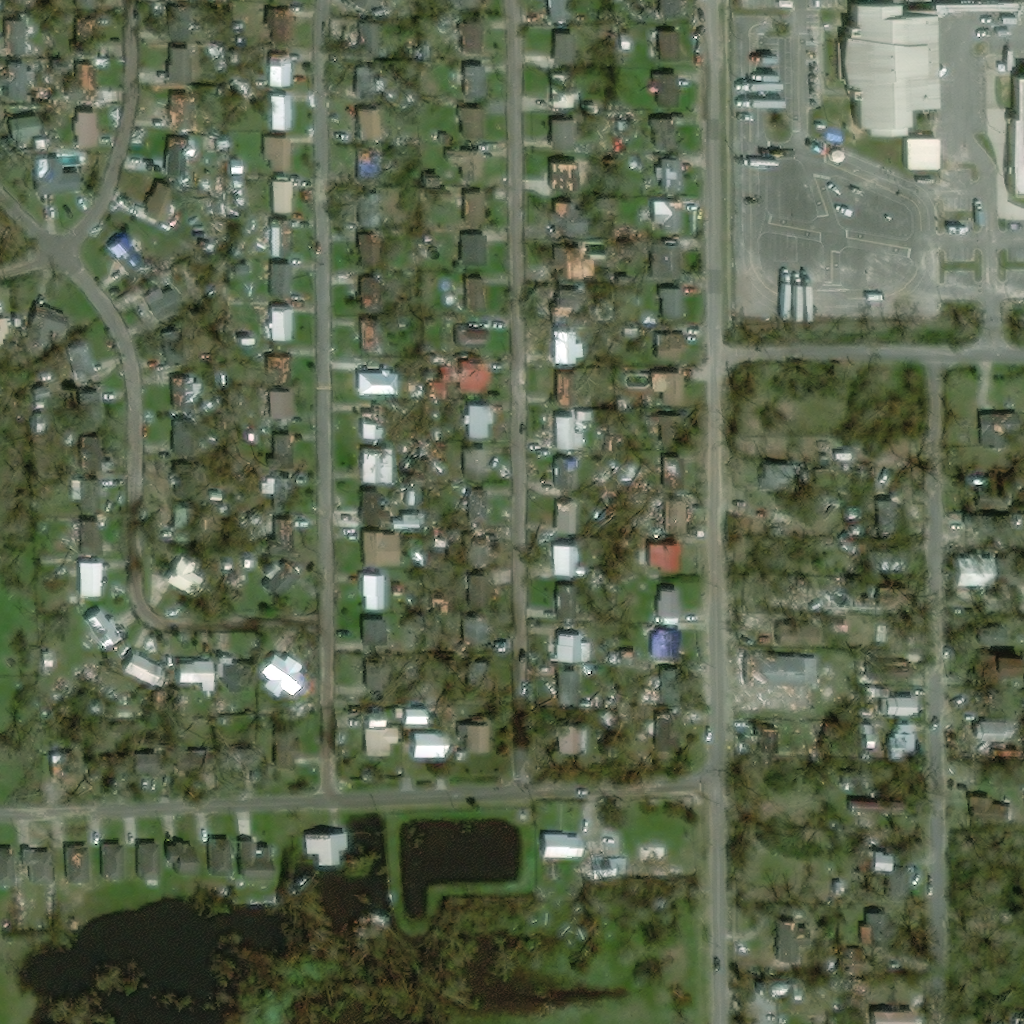destroyed: (811, 585, 840, 599), (620, 115, 640, 135), (843, 776, 865, 790), (206, 139, 218, 153), (621, 143, 628, 151)
major_damage: (737, 658, 817, 685), (305, 829, 351, 872), (439, 360, 491, 396), (163, 371, 195, 416), (980, 412, 1013, 453), (166, 139, 195, 179), (0, 65, 28, 105), (67, 64, 95, 101), (654, 201, 682, 237), (5, 20, 33, 56), (267, 9, 292, 45), (357, 406, 382, 440), (361, 152, 386, 184), (638, 845, 672, 868), (269, 53, 291, 87), (269, 356, 293, 387), (275, 522, 298, 554), (784, 627, 822, 646), (272, 222, 292, 256), (75, 22, 93, 59), (469, 535, 490, 564), (364, 236, 383, 267), (558, 502, 577, 532), (368, 278, 385, 310), (621, 651, 640, 665), (432, 383, 448, 399), (6, 0, 32, 9), (100, 45, 111, 54)
minor_damage: (260, 653, 308, 695), (84, 609, 133, 650), (29, 159, 83, 196), (153, 559, 201, 598), (218, 651, 260, 695), (70, 521, 117, 557), (128, 741, 172, 778), (26, 303, 69, 340), (108, 236, 147, 275), (363, 532, 402, 571), (144, 182, 178, 223), (445, 151, 484, 186), (652, 628, 683, 665), (270, 566, 303, 600), (170, 94, 201, 130), (784, 924, 814, 961), (454, 18, 484, 54), (553, 247, 585, 280), (972, 516, 1015, 539), (656, 160, 683, 196), (651, 372, 681, 404), (361, 489, 389, 523), (551, 74, 578, 108), (655, 715, 681, 749), (652, 119, 680, 150), (209, 840, 232, 877), (554, 211, 591, 234), (551, 163, 581, 191), (563, 291, 592, 319), (464, 66, 487, 101), (169, 2, 189, 42), (653, 246, 677, 279), (651, 75, 676, 106), (664, 459, 689, 489), (460, 107, 484, 138), (67, 843, 86, 882), (275, 436, 298, 468), (557, 373, 578, 408), (465, 278, 486, 311), (274, 480, 296, 511), (467, 492, 489, 523), (658, 336, 686, 359), (366, 24, 386, 56), (465, 194, 485, 226), (366, 111, 388, 140), (767, 466, 795, 488), (670, 501, 689, 532), (857, 804, 904, 816), (982, 724, 1015, 741), (463, 328, 491, 348), (981, 491, 1016, 507), (80, 394, 97, 426), (556, 460, 575, 488), (0, 851, 16, 884), (559, 585, 576, 616), (366, 188, 382, 220), (549, 0, 571, 23), (368, 322, 384, 353), (659, 0, 680, 20), (981, 632, 1007, 647), (756, 985, 798, 994), (0, 318, 13, 346), (356, 0, 384, 10), (229, 159, 242, 174), (853, 508, 870, 519)
no_damage: (838, 3, 940, 133), (235, 841, 279, 907), (866, 844, 914, 900), (1009, 77, 1023, 196), (542, 834, 585, 870), (538, 119, 579, 155), (456, 447, 493, 484), (544, 417, 582, 453), (550, 635, 595, 664), (79, 479, 115, 515), (23, 846, 55, 885), (120, 650, 155, 682), (462, 405, 494, 440), (160, 328, 190, 365), (461, 718, 490, 755), (966, 555, 1000, 586), (263, 138, 292, 174), (265, 304, 294, 340), (906, 138, 938, 169), (646, 543, 678, 574), (180, 660, 215, 688), (363, 449, 391, 484), (869, 915, 900, 946), (76, 562, 101, 600), (985, 656, 1023, 680), (167, 844, 196, 875), (266, 181, 294, 213), (654, 589, 683, 619), (268, 394, 296, 425), (268, 95, 292, 131), (138, 846, 159, 887), (75, 113, 98, 150), (169, 47, 191, 85), (102, 843, 124, 881), (361, 574, 384, 610), (976, 800, 1015, 821), (75, 347, 99, 380), (275, 731, 297, 767), (462, 235, 486, 268), (660, 290, 684, 323), (663, 416, 688, 446), (894, 729, 917, 761), (562, 728, 591, 753), (274, 264, 294, 300), (467, 668, 491, 698), (407, 736, 434, 761), (887, 699, 923, 717), (659, 32, 681, 61), (553, 35, 574, 65), (361, 66, 381, 97), (367, 362, 386, 394), (565, 673, 584, 705), (351, 713, 385, 730), (366, 728, 398, 746), (762, 728, 784, 754), (887, 665, 925, 680), (555, 546, 576, 573), (177, 752, 203, 773), (472, 577, 489, 608), (1006, 555, 1023, 586), (404, 706, 430, 724), (451, 0, 483, 12), (36, 389, 53, 402), (623, 245, 639, 258), (234, 264, 251, 276), (598, 308, 616, 319), (407, 515, 424, 525), (414, 475, 428, 486), (41, 415, 49, 432), (609, 437, 617, 453), (263, 226, 272, 239), (430, 234, 439, 246), (603, 200, 614, 209), (628, 229, 641, 236), (598, 456, 611, 463), (577, 413, 590, 420), (58, 904, 69, 912), (446, 135, 455, 144), (47, 374, 55, 382)
